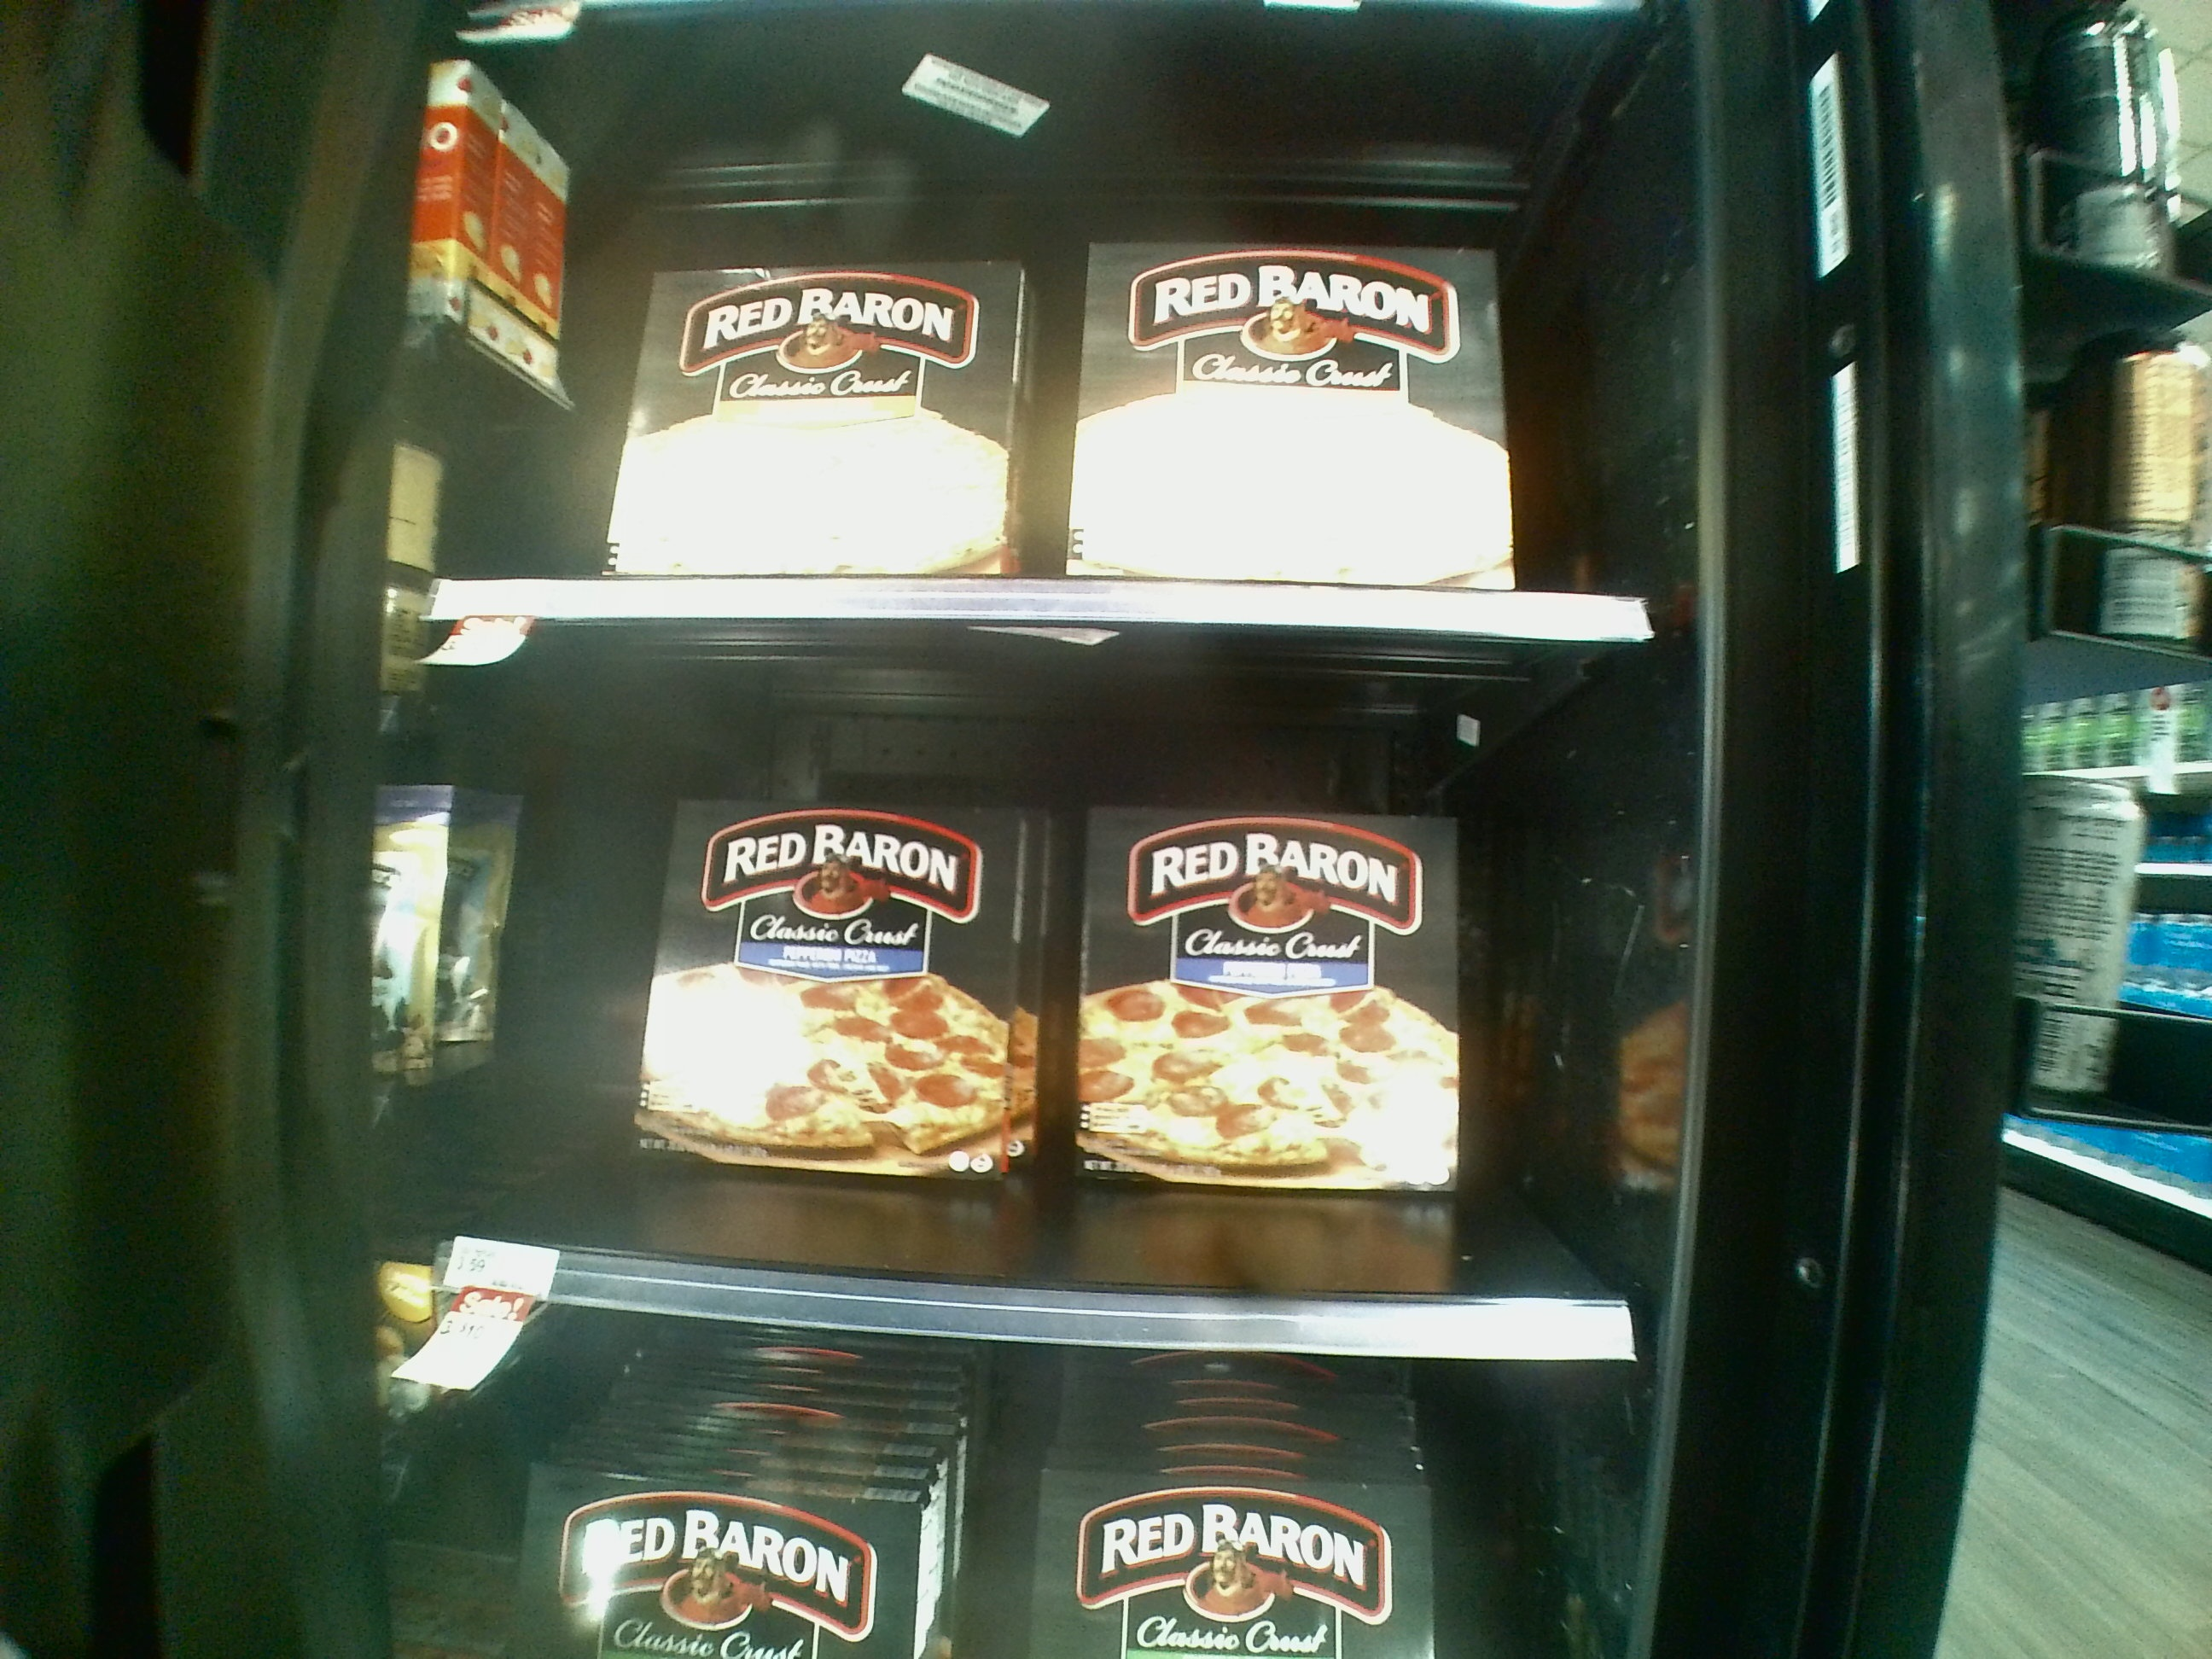shelf: (493, 634, 1642, 1359), (510, 2, 1665, 634)
